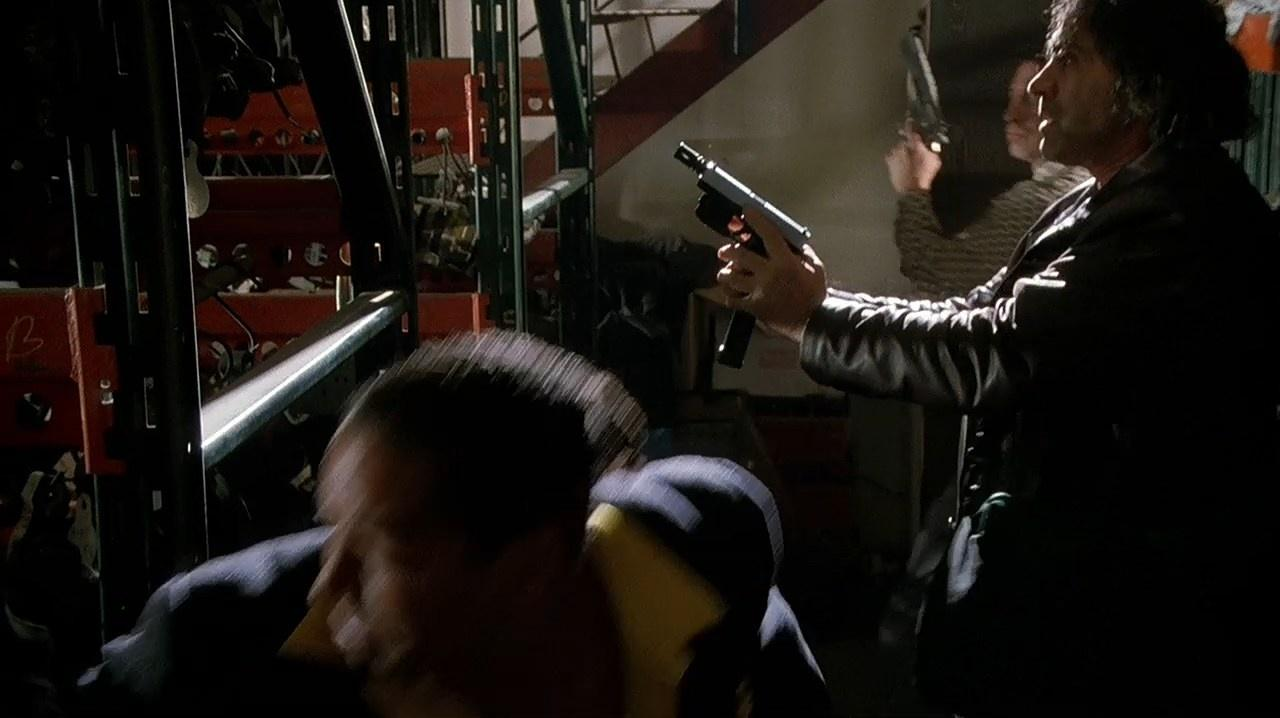gun: (660, 132, 841, 386)
